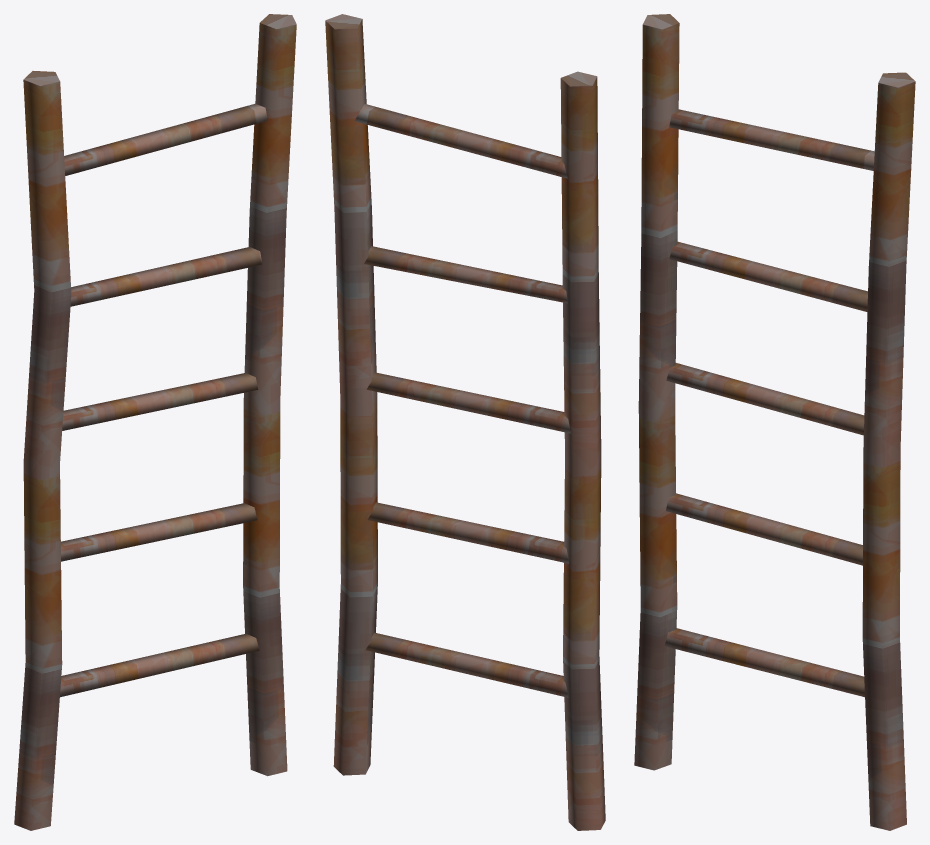
Rendered from Ladder.fbx.
The picture shows the model from 3 angles, left to right: view 1: azimuth 30°, elevation 25°; view 2: azimuth 150°, elevation 25°; view 3: azimuth 330°, elevation 25°; orthographic projection.
Visible parts, largest first — view 1: Ladder; view 2: Ladder; view 3: Ladder.
Part boxes in pixels (x1,y1,x2,y2): Ladder: (14,14,296,830); Ladder: (325,14,605,830); Ladder: (634,14,915,830).
Size of the model in its own units: 162 by 417 by 24.99.
